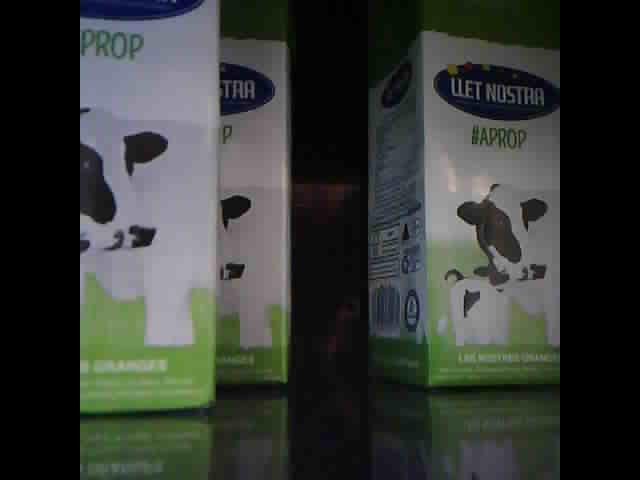leche: (366, 4, 561, 388), (80, 1, 218, 413), (216, 4, 292, 389)
